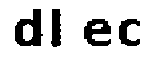c: (117, 17, 143, 49)
d: (10, 7, 45, 50)
e: (81, 15, 113, 50)
l: (48, 5, 73, 53)
